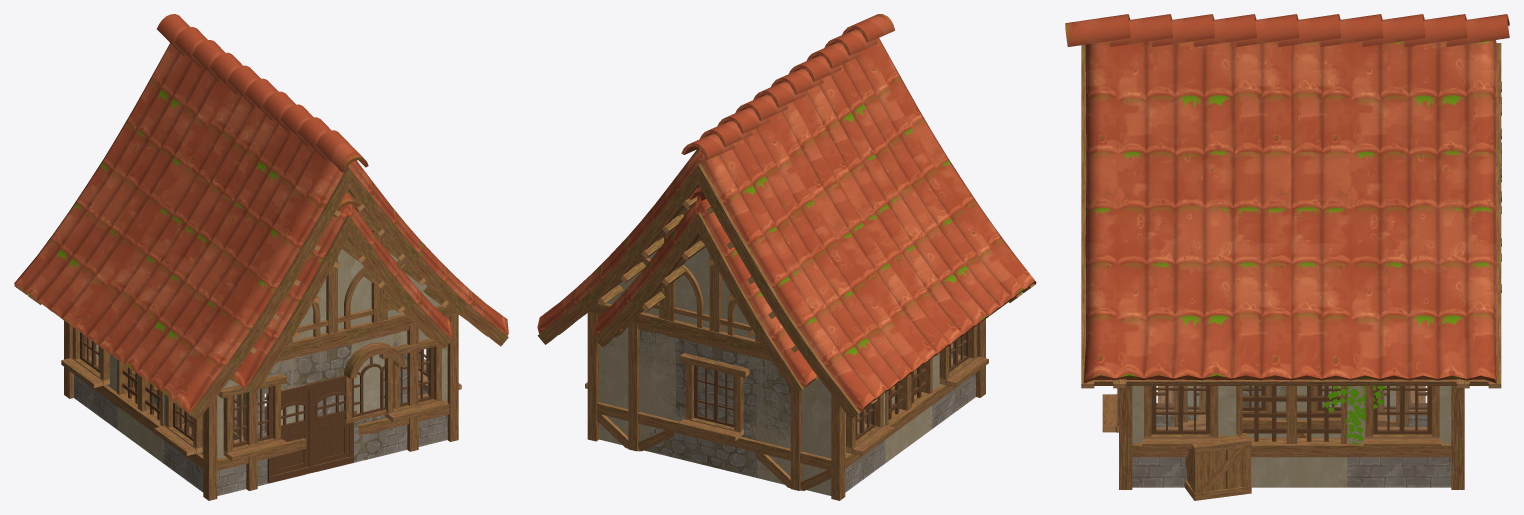
Rendered from houses.gltf.
3 renders of one model, left to right at view 1: azimuth 30°, elevation 25°; view 2: azimuth 150°, elevation 25°; view 3: azimuth 270°, elevation 25°, orthographic. The views are drawn at different scales.
Parts seen in each view (by area): view 1: House_D, House_B; view 2: House_D, House_B; view 3: House_D, House_C, House_A, House_B.
Part boxes in pixels (x1=…): House_D: x1=14, y1=14, x2=508, y2=500; House_B: x1=184, y1=192, x2=452, y2=490; House_D: x1=537, y1=14, x2=1036, y2=500; House_B: x1=593, y1=187, x2=818, y2=490; House_D: x1=1065, y1=14, x2=1509, y2=489; House_C: x1=1176, y1=386, x2=1425, y2=500; House_A: x1=1158, y1=386, x2=1409, y2=437; House_B: x1=1156, y1=142, x2=1501, y2=426.
Size of the model in its own units: 8.25 by 8.01 by 8.03.
Materials: 9 (8 with a texture image).
